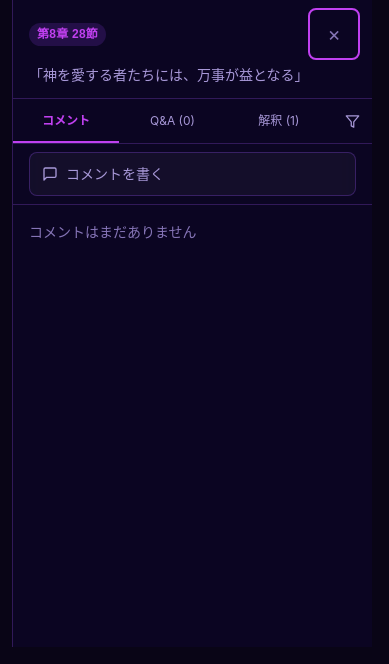
Test: 節のパネルの「解釈」タブ › AI判定は印と確からしさを必ず出す
The image size is (389, 664).
What coordinates should you click on to do the following:
click the tab "解釈 (1)"
I would click on:
 (279, 121)
Its box is x1=226 y1=99 x2=332 y2=143.
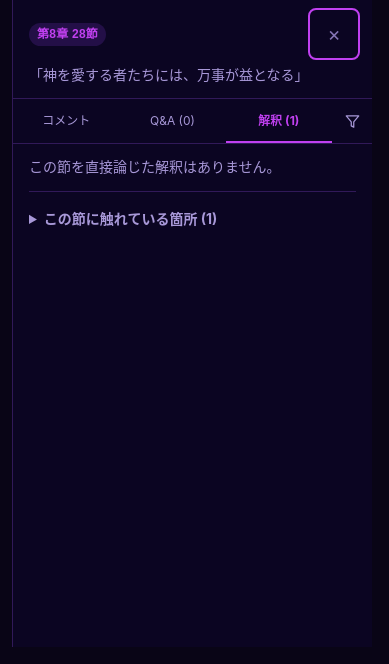
Check: the text "この節を直接論じた解釈はありません。" is shown, box x1=29 y1=158 x2=281 y2=175
